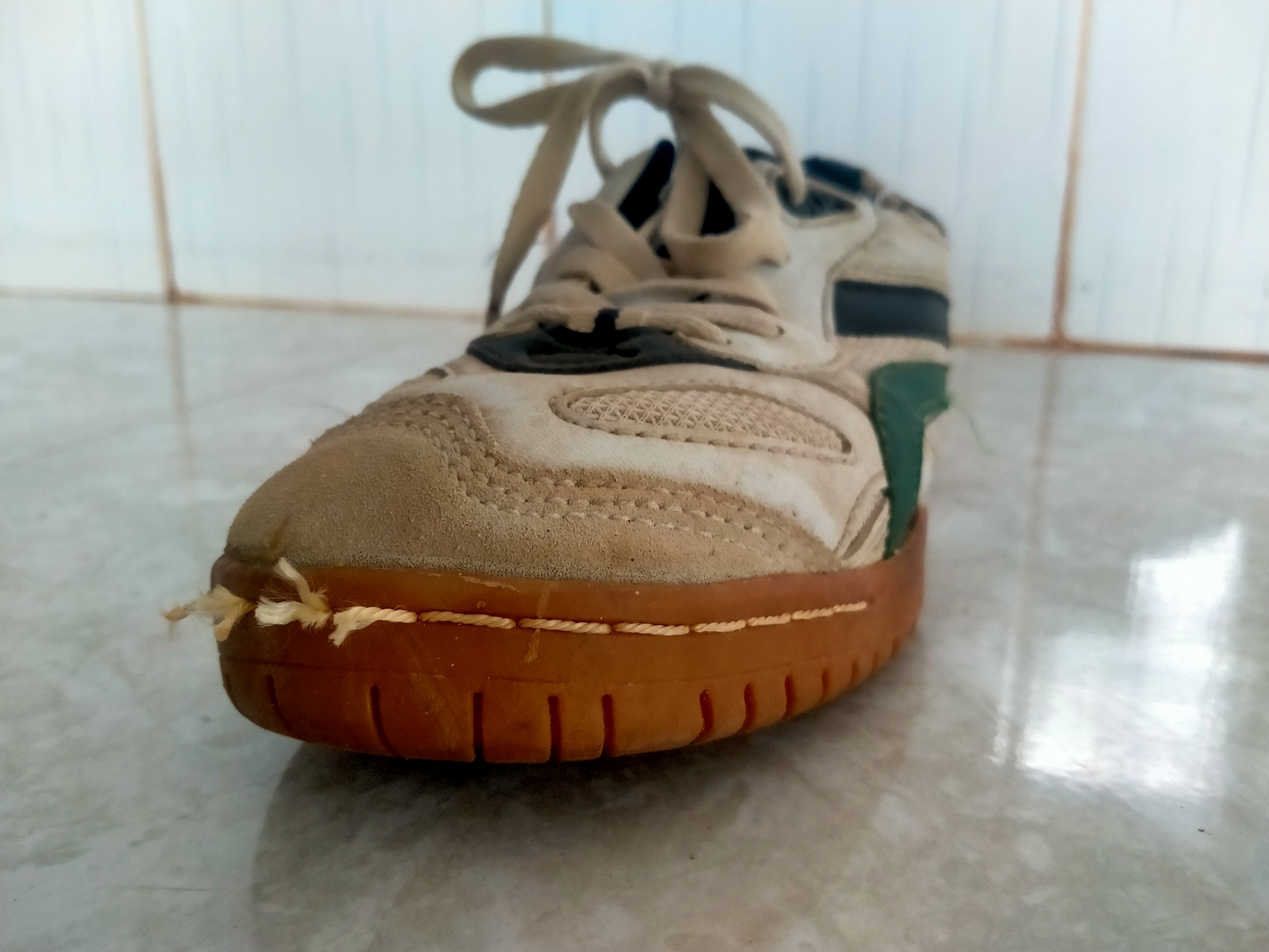broken: (207, 585, 373, 636)
